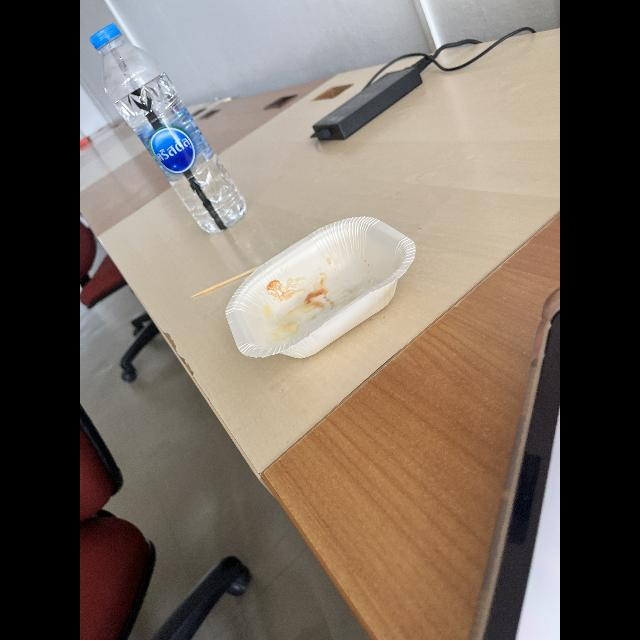cardboard_bowl: (223, 211, 419, 363), (193, 259, 261, 297)
